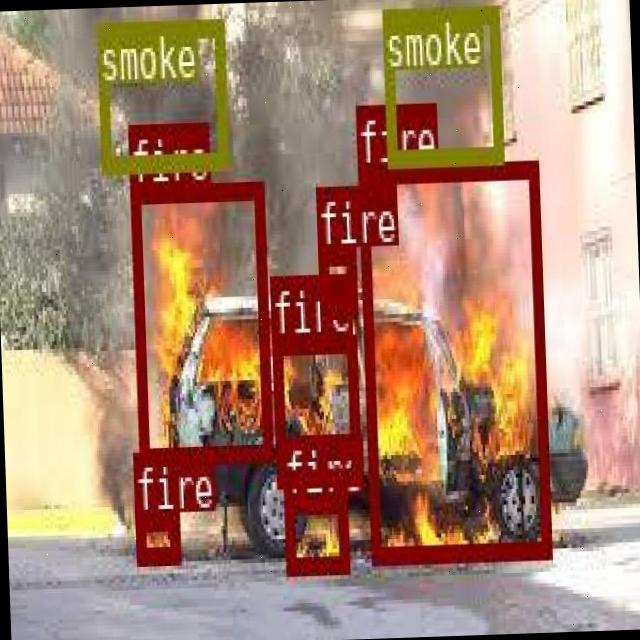fire: (356, 160, 550, 560), (129, 178, 270, 462), (272, 332, 358, 482), (282, 494, 348, 570), (317, 243, 353, 315), (134, 510, 178, 562)
smoke: (95, 18, 226, 168), (382, 4, 502, 162)
